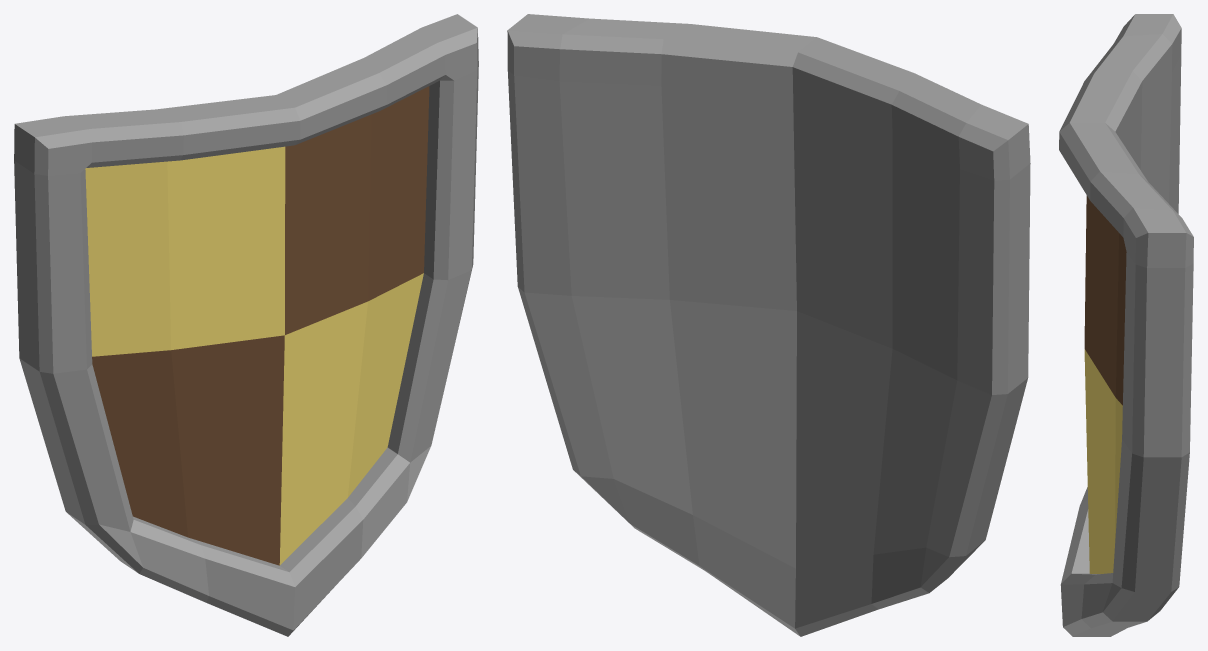
File: Toy_Shield_1.fbx
3 views of the same model, side by side, from view 1: azimuth 30°, elevation 25°; view 2: azimuth 150°, elevation 25°; view 3: azimuth 270°, elevation 25° (orthographic). The views are drawn at different scales.
Visible parts, largest first — view 1: Toy_Shield_1; view 2: Toy_Shield_1; view 3: Toy_Shield_1.
Part boxes in pixels (x1,y1,x2,y2): Toy_Shield_1: (14, 14, 478, 636); Toy_Shield_1: (507, 14, 1030, 636); Toy_Shield_1: (1059, 14, 1193, 636).
Bounding box in the file's own units: 28.19 × 7.47 × 31.69.
